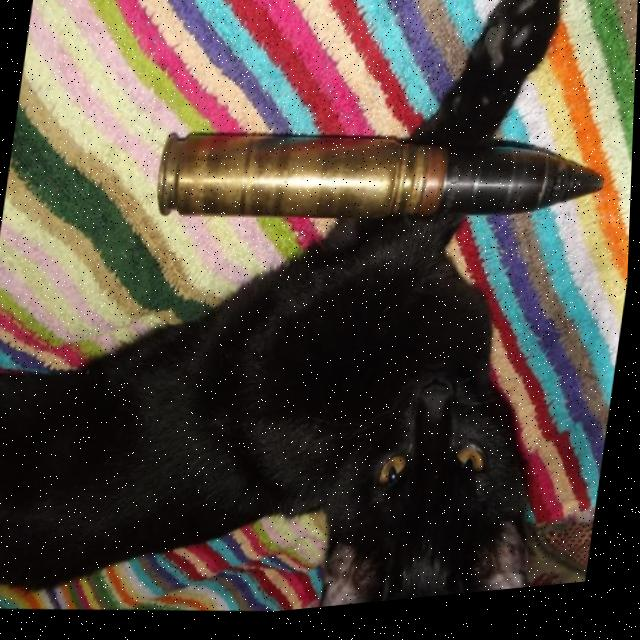Cats: (240, 234, 587, 620)
